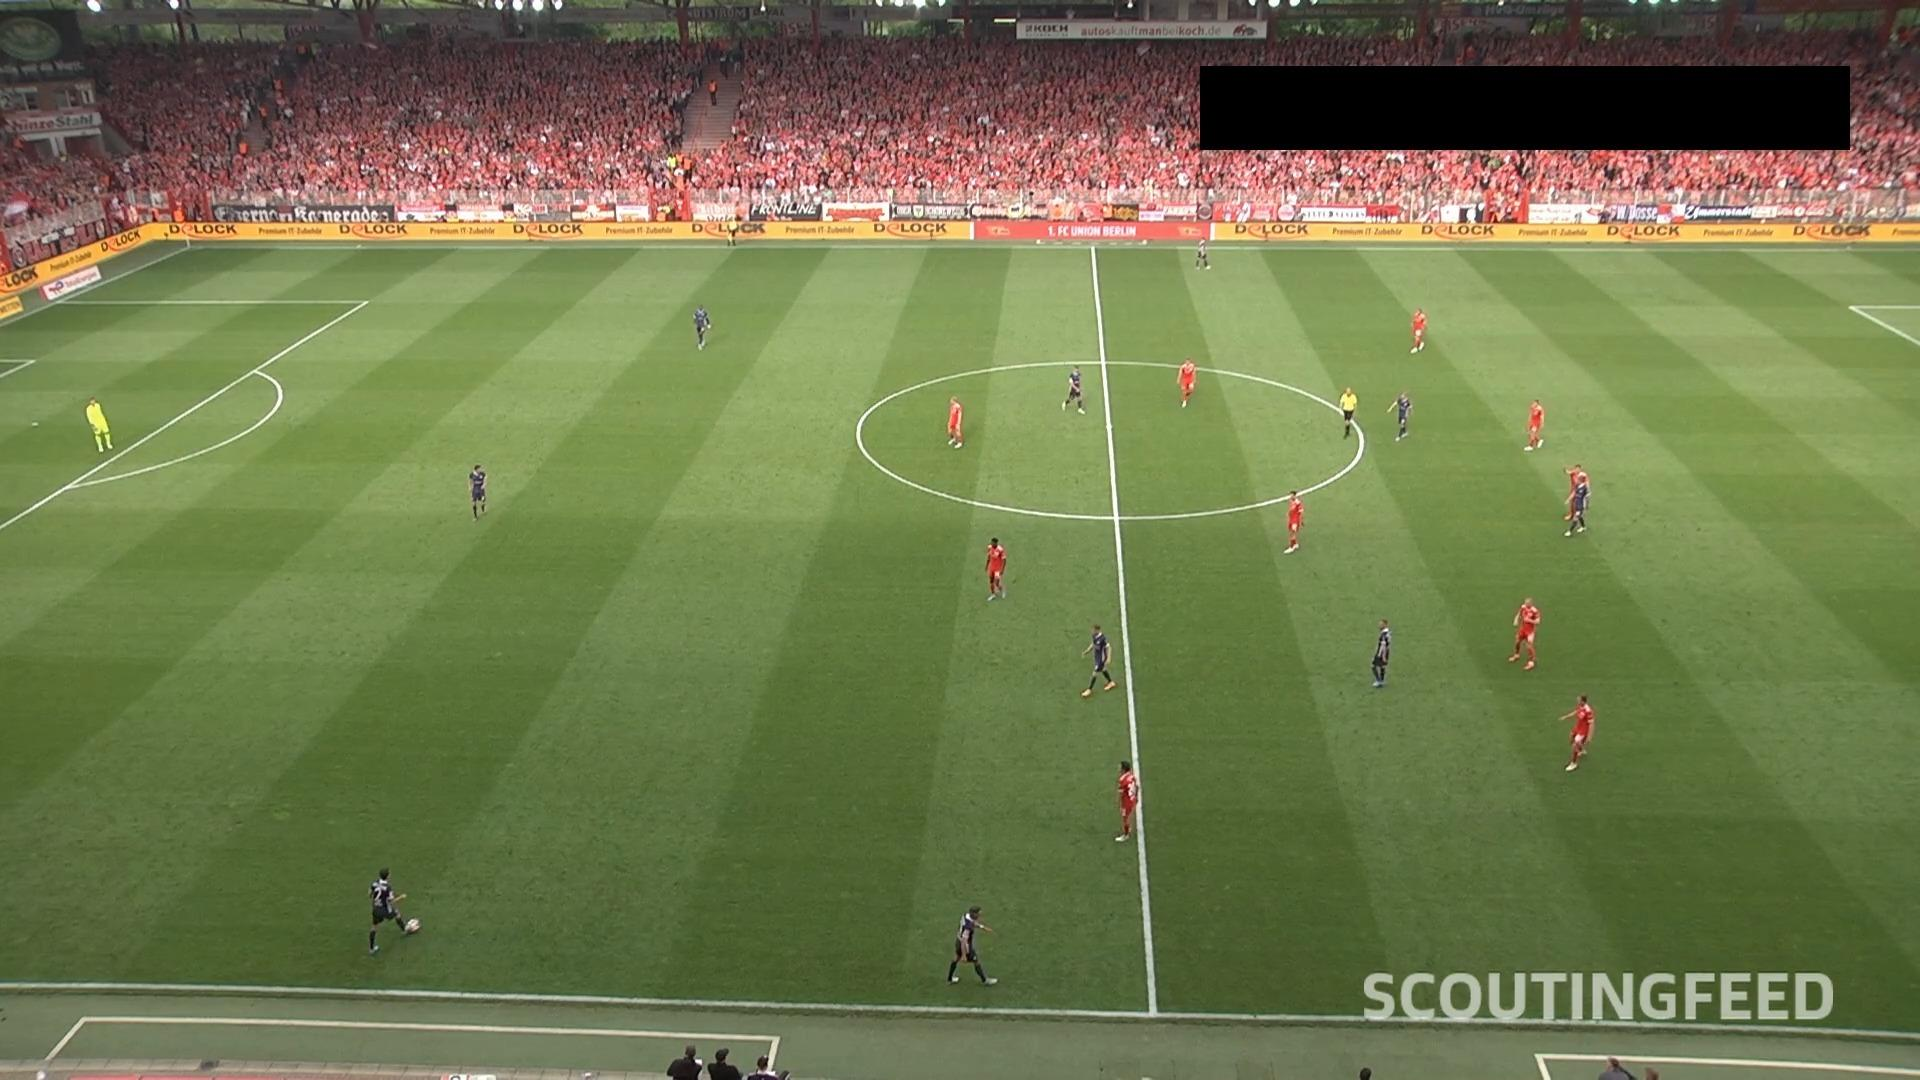ball: (405, 918, 422, 936)
